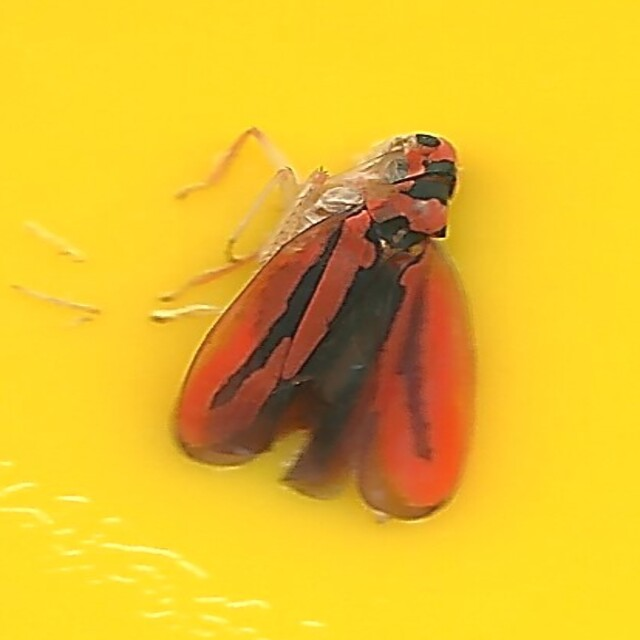Hemiptera: (155, 111, 485, 529)
